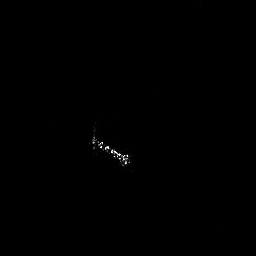ship: (89, 125, 130, 167)
